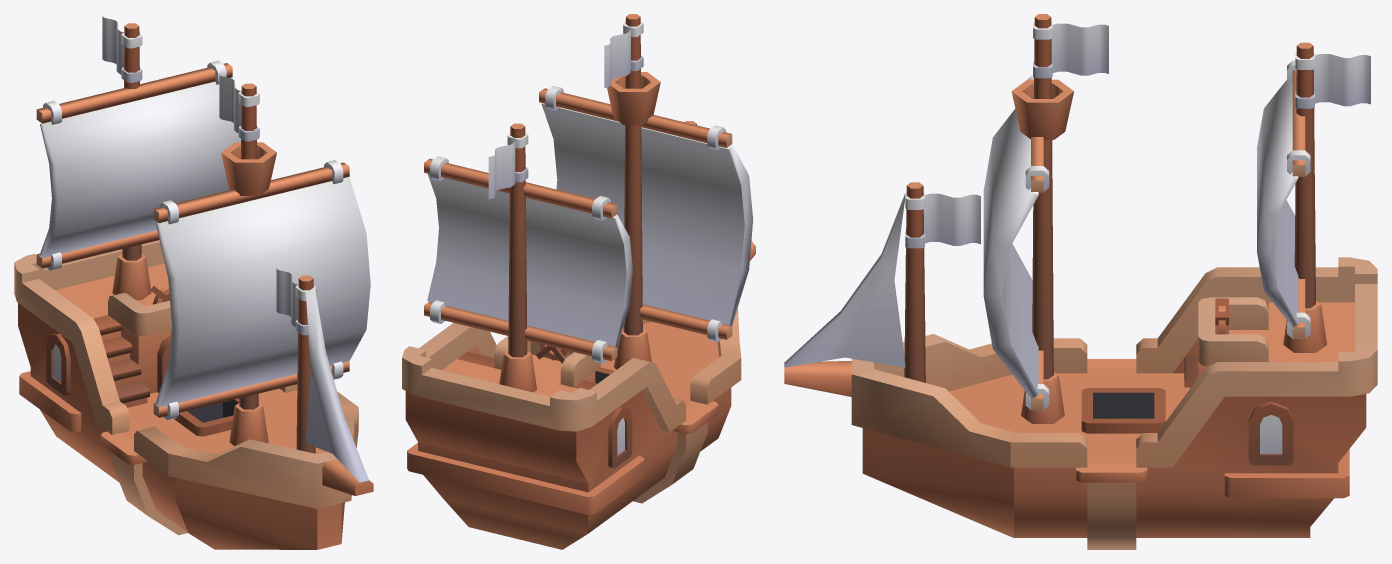
Rendered from ship-medium.glb.
3 renders of one model, left to right at view 1: azimuth 30°, elevation 25°; view 2: azimuth 150°, elevation 25°; view 3: azimuth 270°, elevation 25°, orthographic. The views are drawn at different scales.
Visible parts, largest first — view 1: ship-medium; view 2: ship-medium; view 3: ship-medium.
Part boxes in pixels (bbox=[...]): ship-medium: bbox=[14, 16, 373, 549]; ship-medium: bbox=[402, 14, 755, 549]; ship-medium: bbox=[784, 14, 1377, 549].
Size of the model in its own units: 4.8 by 9.96 by 10.6.
Materials: 1 (1 with a texture image).
